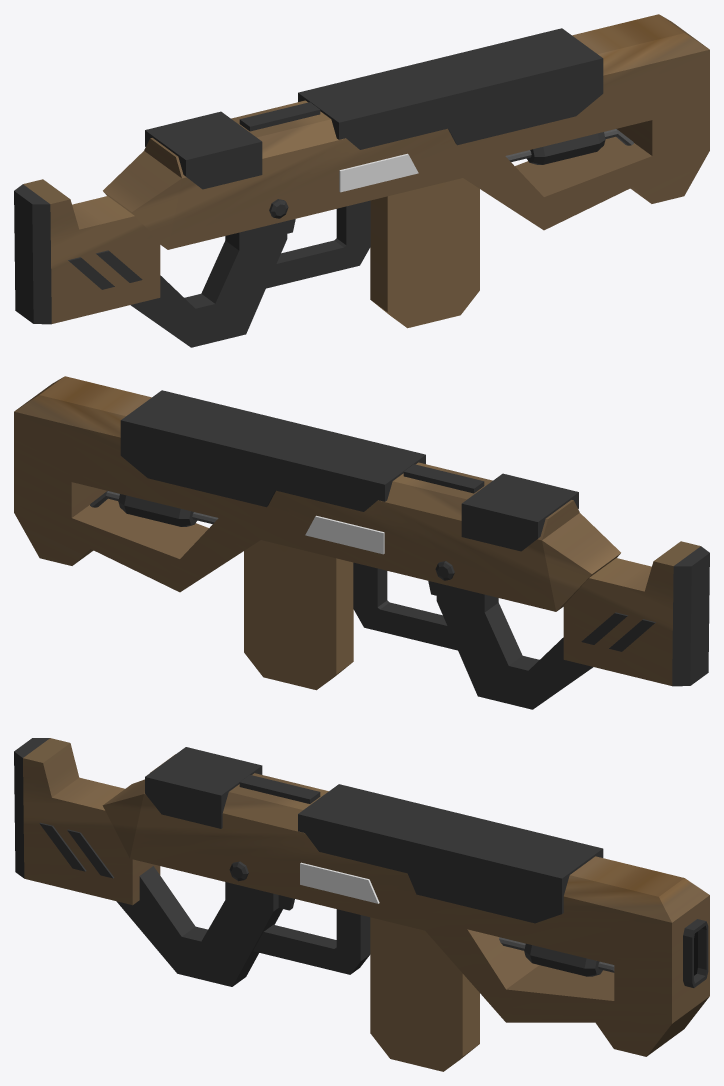
File: Rifle_Pulse_A_V3.FBX
3 views of the same model, one above another, from view 1: azimuth 30°, elevation 25°; view 2: azimuth 150°, elevation 25°; view 3: azimuth 330°, elevation 25° (orthographic).
Parts seen in each view (by area): view 1: Rifle_Pulse_A_V3, Magazine; view 2: Rifle_Pulse_A_V3, Magazine; view 3: Rifle_Pulse_A_V3, Magazine.
Part boxes in pixels (x1=…): Rifle_Pulse_A_V3: x1=14, y1=14, x2=709, y2=347; Magazine: x1=370, y1=178, x2=479, y2=328; Rifle_Pulse_A_V3: x1=14, y1=376, x2=709, y2=709; Magazine: x1=244, y1=540, x2=353, y2=690; Rifle_Pulse_A_V3: x1=14, y1=738, x2=709, y2=1056; Magazine: x1=370, y1=917, x2=479, y2=1071.
Bounding box in the file's own units: 411 × 137 × 45.63.
